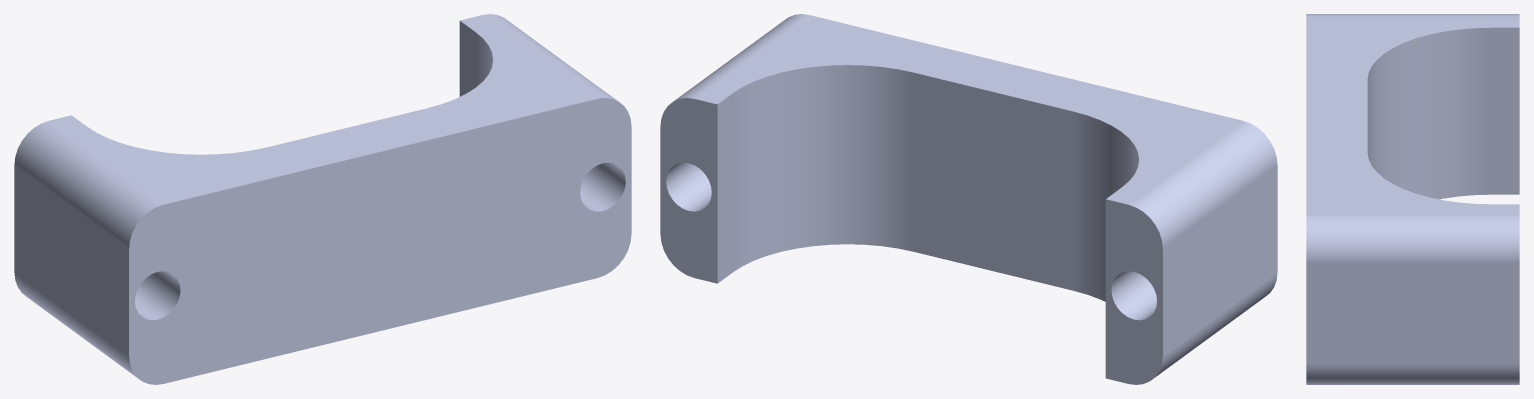
Rendered from carepackagetop.gltf.
The picture shows the model from 3 angles, left to right: view 1: azimuth 30°, elevation 25°; view 2: azimuth 150°, elevation 25°; view 3: azimuth 270°, elevation 25°; orthographic projection. The views are drawn at different scales.
Visible parts, largest first — view 1: CarePackageTop; view 2: CarePackageTop; view 3: CarePackageTop.
Boxes of the visible parts, left/top/right/bottom form: CarePackageTop: left=14, top=14, right=631, bottom=384; CarePackageTop: left=660, top=14, right=1277, bottom=384; CarePackageTop: left=1306, top=14, right=1519, bottom=384.
Size of the model in its own units: 0.044 by 0.015 by 0.0174.
